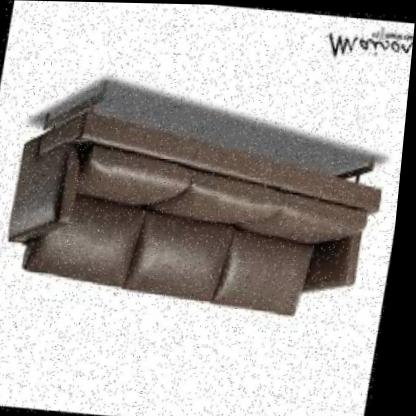Sofa: (0, 30, 414, 341)
